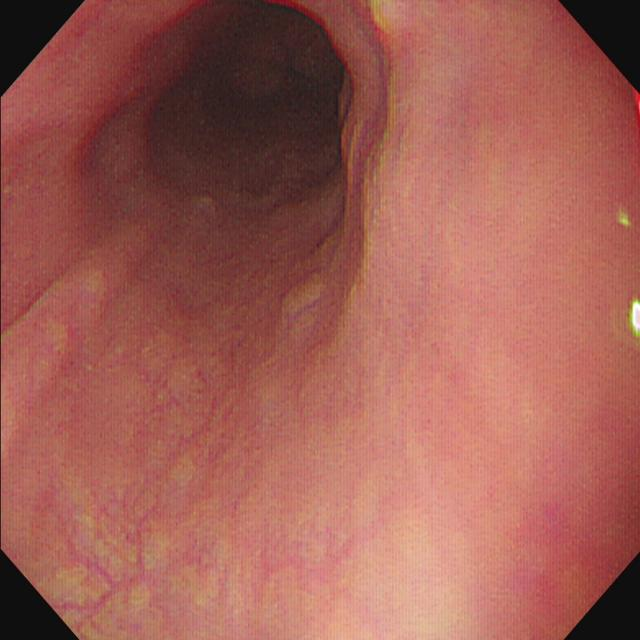E: (159, 3, 357, 194)
J: (277, 222, 342, 340)
U: (627, 295, 640, 344)
